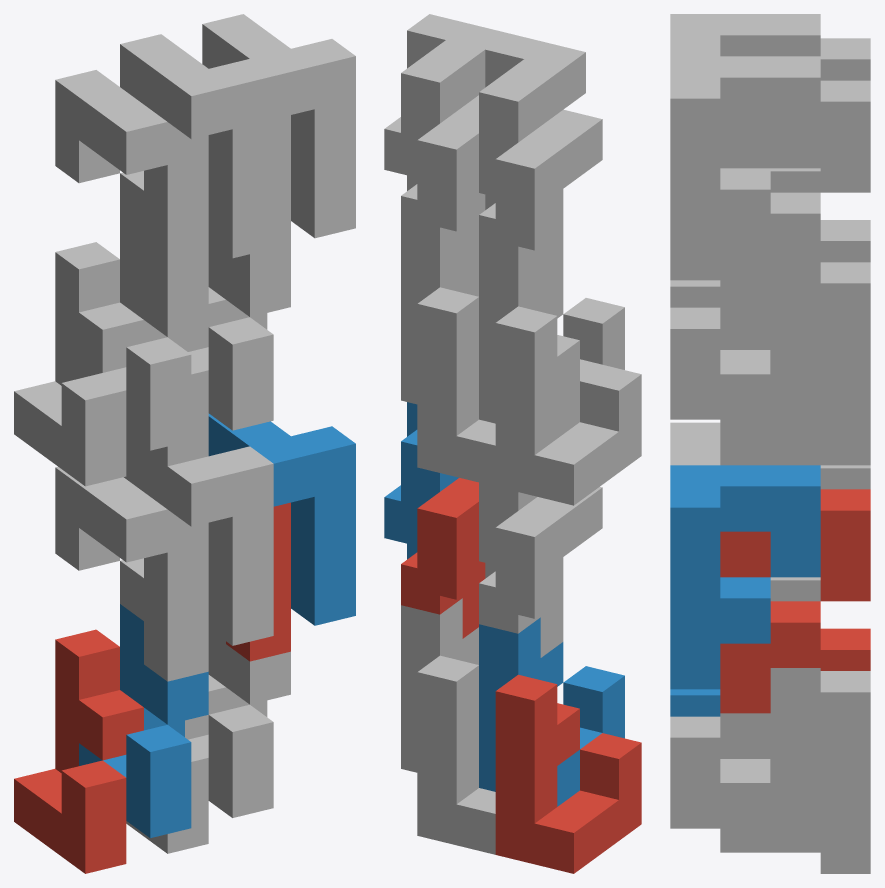
The model's file is tiling.obj.
3 renders of one model, left to right at view 1: azimuth 30°, elevation 25°; view 2: azimuth 150°, elevation 25°; view 3: azimuth 270°, elevation 25°, orthographic. The views are drawn at different scales.
Visible parts, largest first — view 1: copy_2_domain_3, copy_2_domain_1, copy_1_domain_1, copy_1_domain_3, copy_2_domain_4, copy_2_domain_8, copy_2_domain_2, copy_2_domain_6, copy_1_domain_4, copy_1_domain_2, copy_1_domain_8, copy_1_domain_6 (+4 smaller); view 2: copy_1_domain_3, copy_1_domain_1, copy_1_domain_5, copy_1_domain_7, copy_2_domain_3, copy_2_domain_1, copy_1_domain_2, copy_1_domain_4, copy_2_domain_4, copy_2_domain_8, copy_2_domain_7, copy_2_domain_5 (+4 smaller); view 3: copy_2_domain_6, copy_2_domain_8, copy_1_domain_6, copy_1_domain_8, copy_2_domain_5, copy_2_domain_7, copy_1_domain_7, copy_1_domain_5, copy_2_domain_4, copy_2_domain_2, copy_2_domain_3, copy_2_domain_1 (+4 smaller).
Boxes of the visible parts, x1=… form: copy_2_domain_3: x1=55, y1=70, x2=208, y2=293; copy_2_domain_1: x1=55, y1=466, x2=208, y2=681; copy_1_domain_1: x1=14, y1=629, x2=143, y2=873; copy_1_domain_3: x1=14, y1=242, x2=143, y2=486; copy_2_domain_4: x1=120, y1=34, x2=273, y2=258; copy_2_domain_8: x1=202, y1=14, x2=355, y2=238; copy_2_domain_2: x1=124, y1=436, x2=273, y2=645; copy_2_domain_6: x1=208, y1=413, x2=355, y2=625; copy_1_domain_4: x1=79, y1=216, x2=208, y2=450; copy_1_domain_2: x1=79, y1=604, x2=208, y2=838; copy_1_domain_8: x1=188, y1=241, x2=290, y2=430; copy_1_domain_6: x1=188, y1=629, x2=290, y2=817; copy_1_domain_3: x1=495, y1=306, x2=641, y2=505; copy_1_domain_1: x1=495, y1=674, x2=641, y2=873; copy_1_domain_5: x1=417, y1=655, x2=495, y2=854; copy_1_domain_7: x1=417, y1=287, x2=495, y2=486; copy_2_domain_3: x1=479, y1=109, x2=602, y2=289; copy_2_domain_1: x1=479, y1=487, x2=602, y2=657; copy_1_domain_2: x1=479, y1=617, x2=624, y2=806; copy_1_domain_4: x1=479, y1=249, x2=624, y2=438; copy_2_domain_4: x1=479, y1=33, x2=585, y2=209; copy_2_domain_8: x1=384, y1=14, x2=507, y2=190; copy_2_domain_7: x1=401, y1=95, x2=485, y2=270; copy_2_domain_5: x1=401, y1=478, x2=485, y2=638; copy_2_domain_6: x1=670, y1=465, x2=820, y2=689; copy_2_domain_8: x1=670, y1=56, x2=820, y2=280; copy_1_domain_6: x1=670, y1=668, x2=820, y2=849; copy_1_domain_8: x1=670, y1=259, x2=820, y2=440; copy_2_domain_5: x1=720, y1=489, x2=870, y2=713; copy_2_domain_7: x1=720, y1=80, x2=870, y2=304; copy_1_domain_7: x1=720, y1=262, x2=870, y2=465; copy_1_domain_5: x1=720, y1=671, x2=870, y2=873; copy_2_domain_4: x1=670, y1=14, x2=820, y2=56; copy_2_domain_2: x1=670, y1=422, x2=820, y2=465; copy_2_domain_3: x1=770, y1=38, x2=870, y2=192; copy_2_domain_1: x1=770, y1=465, x2=870, y2=601.
Size of the model in its own units: 6 by 18 by 4.
